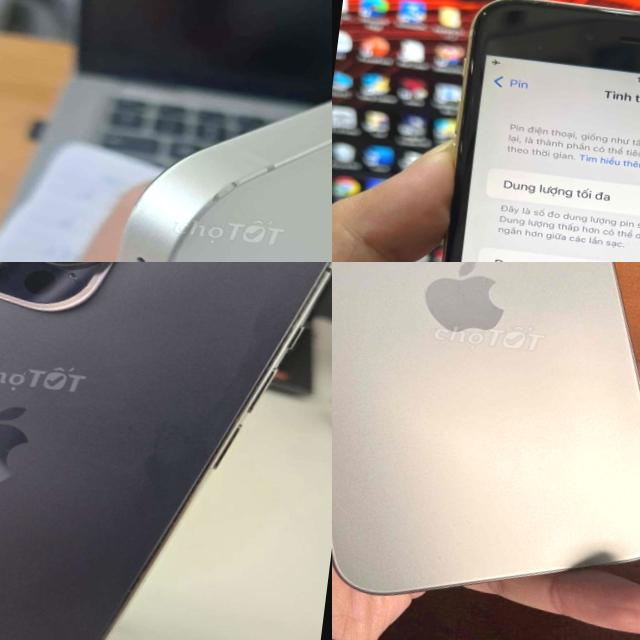gen_14: (0, 262, 332, 640)
gen_15: (332, 262, 640, 624)
gen_16: (117, 101, 332, 262)
gen_7_8: (382, 0, 640, 262)
